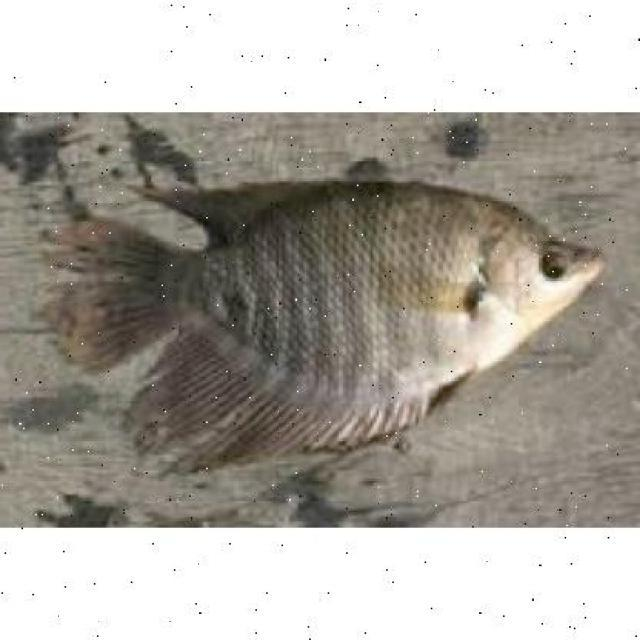gurame: (57, 170, 605, 467)
